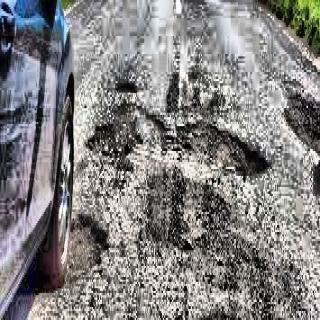pothole: (178, 104, 270, 208), (84, 90, 175, 186), (72, 192, 121, 290), (115, 68, 141, 94)
